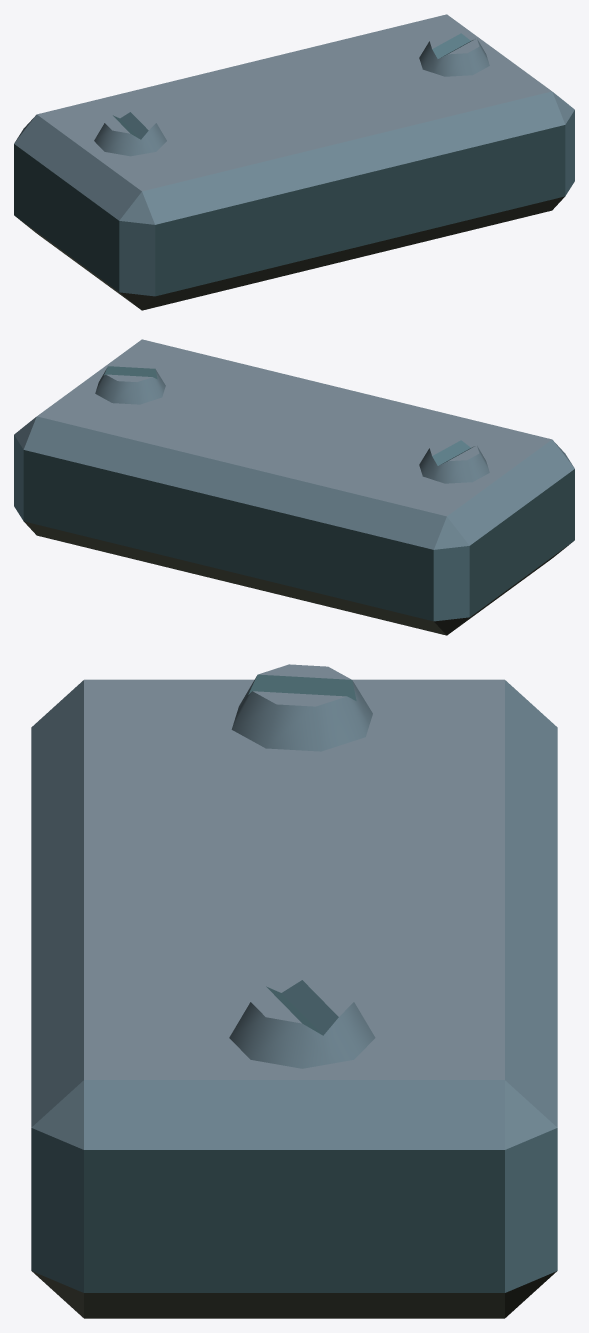
Rendered from m_kub_metal_flatBrick.FBX.
3 views of the same model, one above another, from view 1: azimuth 30°, elevation 25°; view 2: azimuth 150°, elevation 25°; view 3: azimuth 270°, elevation 25° (orthographic). The views are drawn at different scales.
Parts seen in each view (by area): view 1: m_kub_metal_flatBrick; view 2: m_kub_metal_flatBrick; view 3: m_kub_metal_flatBrick.
Part boxes in pixels (x1,y1,x2,y2): m_kub_metal_flatBrick: (14,14,574,310); m_kub_metal_flatBrick: (14,339,574,635); m_kub_metal_flatBrick: (31,664,557,1318).
Size of the model in its own units: 2 by 0.5761 by 1.
